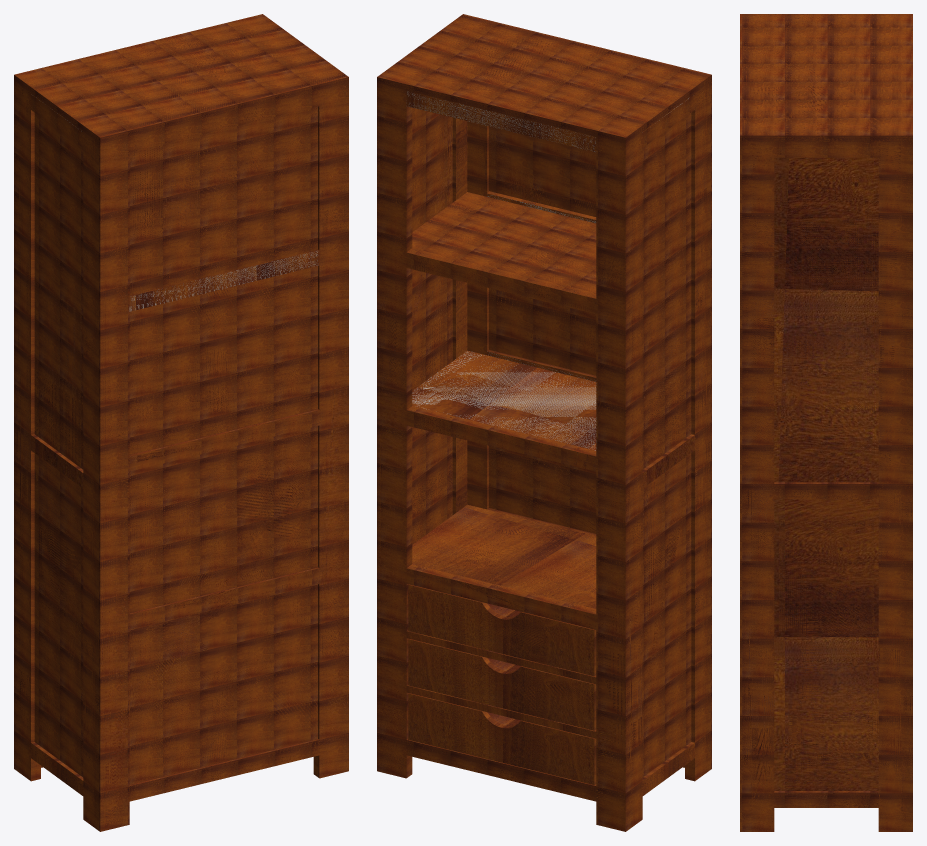
3 views of the same model, side by side, from view 1: azimuth 30°, elevation 25°; view 2: azimuth 150°, elevation 25°; view 3: azimuth 270°, elevation 25° (orthographic).
Parts seen in each view (by area): view 1: mesh2_mesh2-geometry; view 2: mesh2_mesh2-geometry, mesh1_mesh1-geometry; view 3: mesh2_mesh2-geometry.
Part boxes in pixels (x1,y1,x2,y2): mesh2_mesh2-geometry: (14,14,348,831); mesh2_mesh2-geometry: (377,14,711,831); mesh1_mesh1-geometry: (408,584,596,784); mesh2_mesh2-geometry: (740,14,912,831).
Size of the model in its own units: 0.3436 by 0.9162 by 0.2061.
